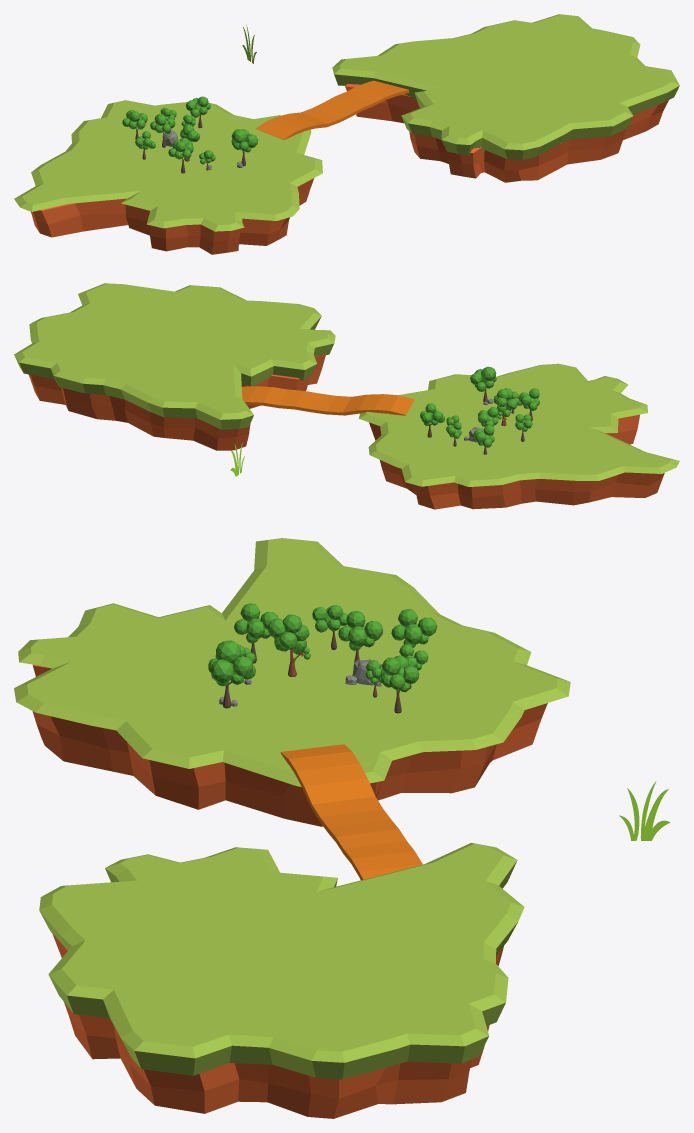
The model's file is islas1arreglado.fbx.
3 renders of one model, top to bottom at view 1: azimuth 30°, elevation 25°; view 2: azimuth 150°, elevation 25°; view 3: azimuth 270°, elevation 25°, orthographic. The views are drawn at different scales.
Visible parts, largest first — view 1: Plane.005, Plane.010, Plane.004, Plane.006, Plane.008, hojas1, hojas3.005, hojas3, hojas3.001; view 2: Plane.005, Plane.010, Plane.006, Plane.004, Plane.008, hojas2, hojas1, hojas3, hojas3.005, hojas3.001; view 3: Plane.005, Plane.010, Plane.006, Plane.004, Plane.008, hojas1, hojas2, hojas3.002, hojas3.005, Plane.009, hojas3.001, hojas3.
Boxes of the visible parts, <box> form: Plane.005: <box>332,14,679,159</box>; Plane.010: <box>14,100,322,231</box>; Plane.004: <box>344,84,668,182</box>; Plane.006: <box>31,178,314,254</box>; Plane.008: <box>256,80,409,139</box>; hojas1: <box>231,129,258,152</box>; hojas3.005: <box>122,109,147,129</box>; hojas3: <box>186,96,210,117</box>; hojas3.001: <box>168,140,193,159</box>; Plane.005: <box>14,283,335,429</box>; Plane.010: <box>359,363,679,486</box>; Plane.006: <box>369,414,664,509</box>; Plane.004: <box>28,354,325,450</box>; Plane.008: <box>241,386,414,415</box>; hojas2: <box>493,388,517,419</box>; hojas1: <box>470,366,496,391</box>; hojas3: <box>420,403,445,425</box>; hojas3.005: <box>473,425,494,447</box>; hojas3.001: <box>518,388,539,410</box>; Plane.005: <box>39,843,524,1079</box>; Plane.010: <box>14,538,570,786</box>; Plane.006: <box>32,664,547,826</box>; Plane.004: <box>52,933,503,1118</box>; Plane.008: <box>280,744,422,880</box>; hojas1: <box>208,640,255,686</box>; hojas2: <box>267,614,310,659</box>; hojas3.002: <box>338,610,383,650</box>; hojas3.005: <box>391,609,437,647</box>; Plane.009: <box>619,781,670,840</box>; hojas3.001: <box>234,603,278,643</box>; hojas3: <box>380,655,419,692</box>.
Size of the model in its own units: 21597 by 2581 by 11469.
